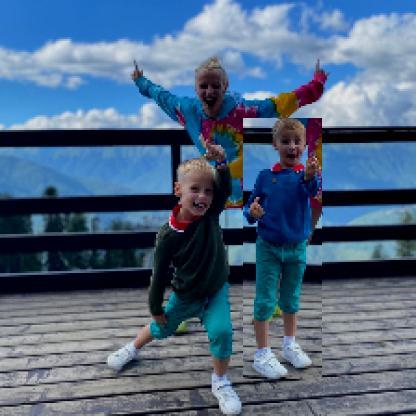child: (105, 133, 244, 416), (244, 119, 324, 381)
